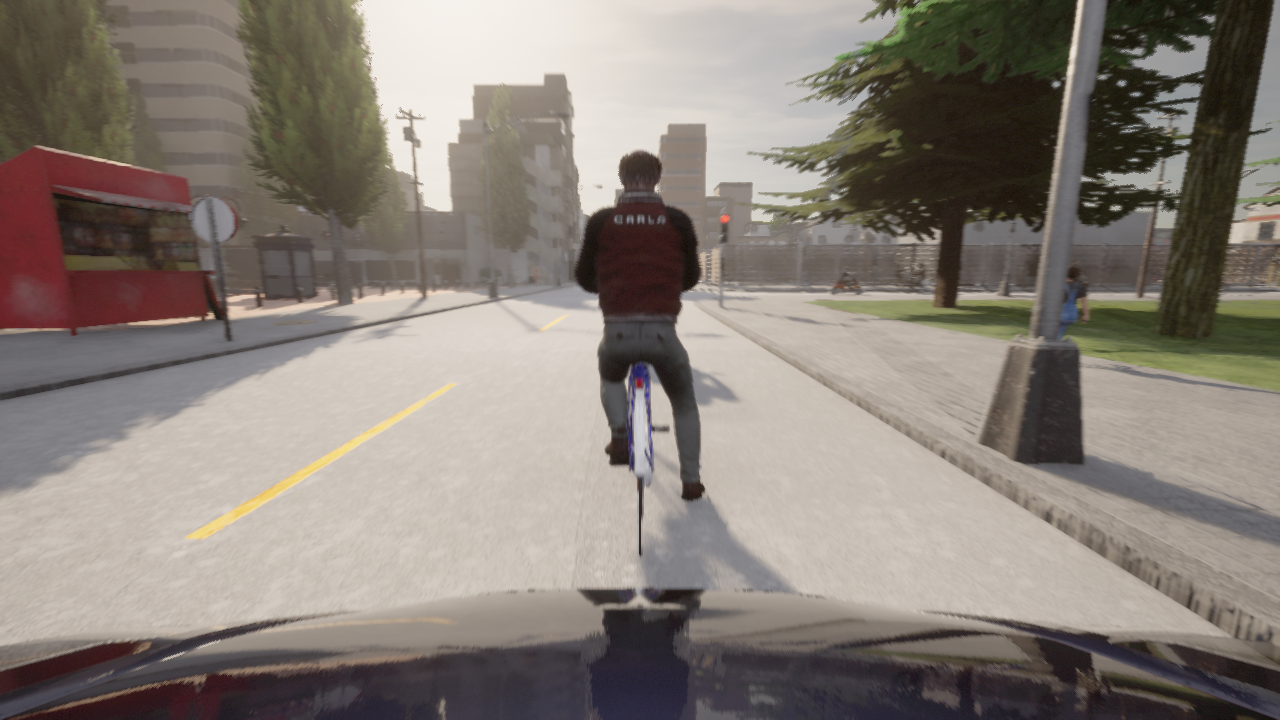cyclist: (0, 588, 1279, 719), (609, 363, 668, 556), (829, 272, 862, 295), (902, 279, 932, 292), (763, 270, 792, 280), (736, 266, 755, 280), (845, 267, 864, 281), (800, 270, 820, 280), (1082, 276, 1092, 294), (771, 272, 787, 281), (866, 271, 877, 281), (1219, 282, 1227, 295), (877, 269, 892, 271), (1146, 278, 1154, 281)
pedestrian: (1058, 266, 1087, 340), (533, 264, 539, 286)
